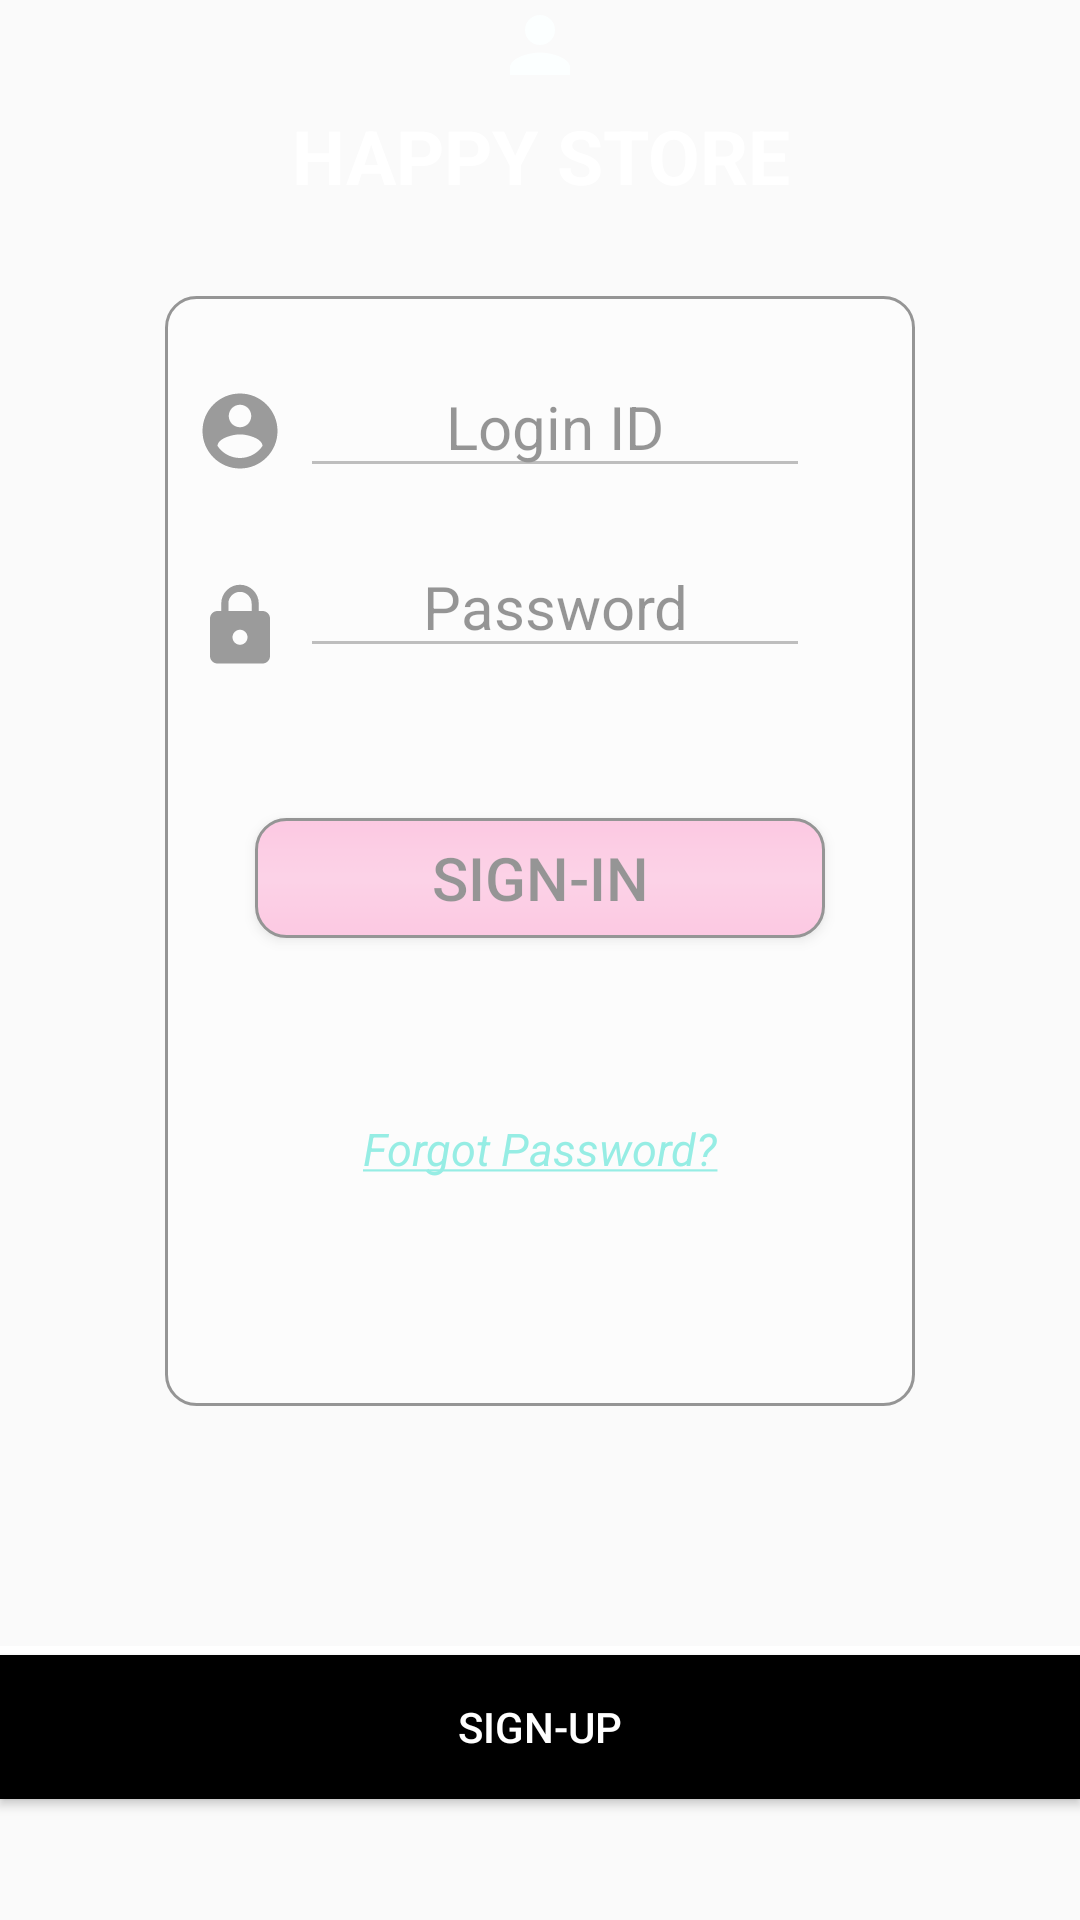

Icon bounding boxes for this 1080px x 1920px phone screenshot, format detection(x1, y1, x2, y2):
account circle: detection(202, 393, 278, 469)
lock: detection(210, 585, 270, 664)
